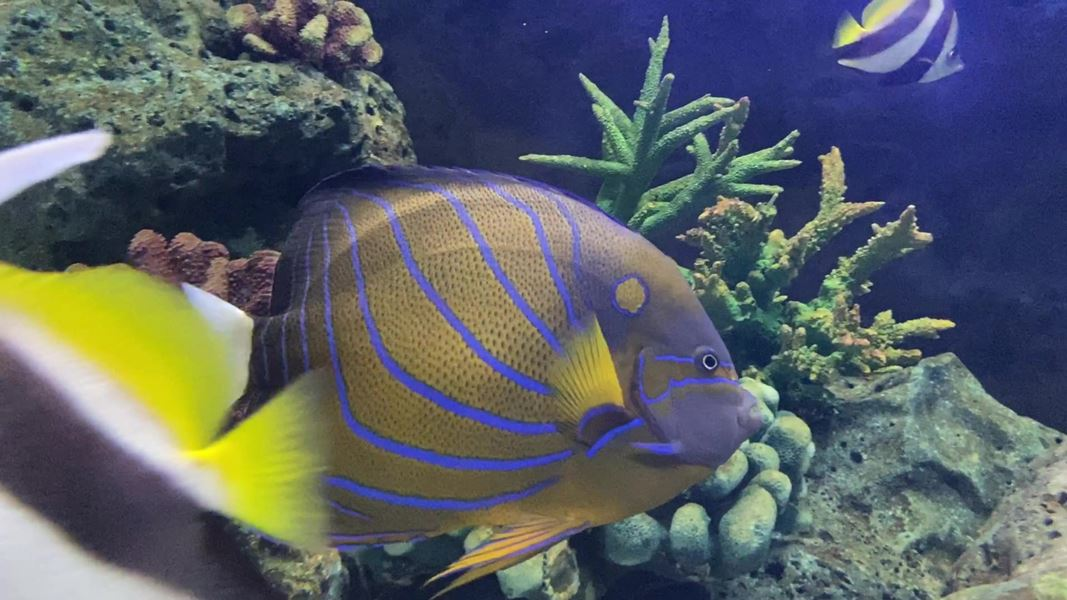Blue ring angelfish: (156, 153, 783, 600)
